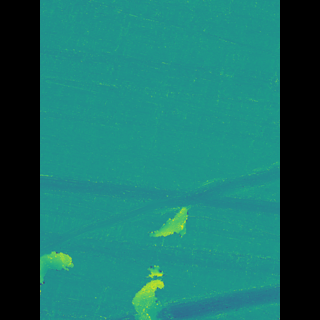Loch: (69, 157, 251, 258), (159, 277, 250, 319), (136, 262, 168, 320), (149, 198, 184, 243), (68, 239, 96, 294)
